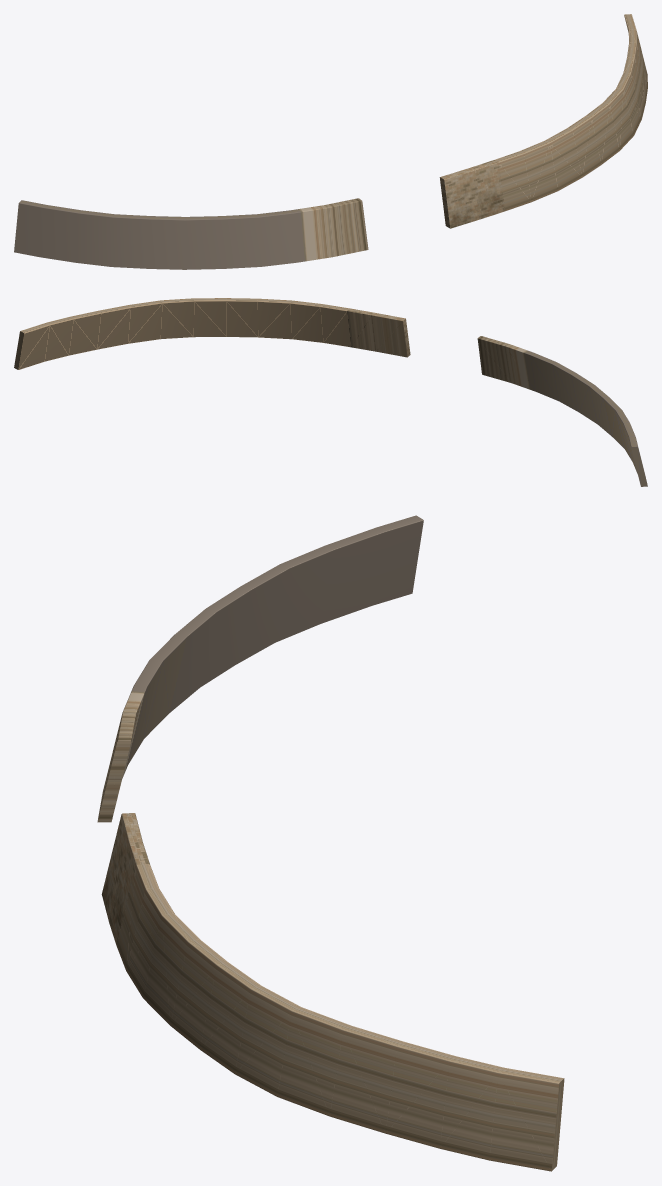
The model's file is objects_un_t01house02_wall01.gltf.
3 renders of one model, top to bottom at view 1: azimuth 30°, elevation 25°; view 2: azimuth 150°, elevation 25°; view 3: azimuth 270°, elevation 25°, orthographic. The views are drawn at different scales.
Parts seen in each view (by area): view 1: objects_un_t01house02_wall01_mesh_shape:objects_un_t01house0; view 2: objects_un_t01house02_wall01_mesh_shape:objects_un_t01house0; view 3: objects_un_t01house02_wall01_mesh_shape:objects_un_t01house0.
Part boxes in pixels (x1,y1,x2,y2): objects_un_t01house02_wall01_mesh_shape:objects_un_t01house0: (14, 14, 647, 269); objects_un_t01house02_wall01_mesh_shape:objects_un_t01house0: (14, 298, 647, 486); objects_un_t01house02_wall01_mesh_shape:objects_un_t01house0: (97, 515, 564, 1171).
Size of what is drawn, in the model's own units: 68.56 by 4.41 by 23.22.
Materials: 1 (1 with a texture image).
